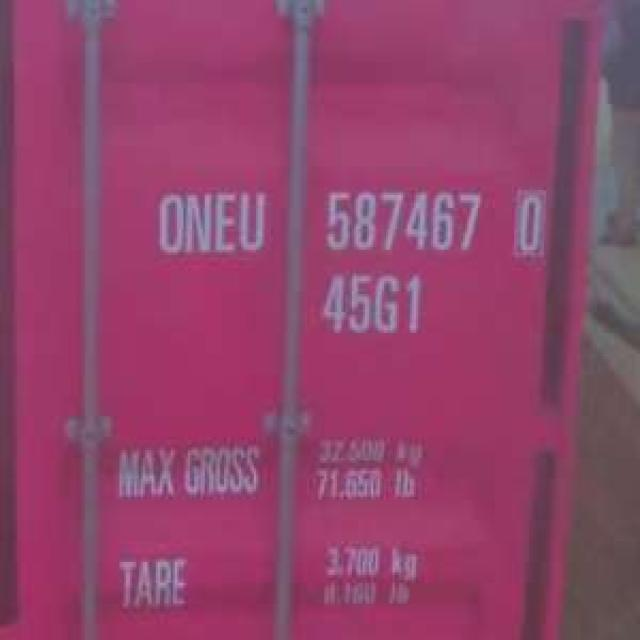dv: (512, 188, 548, 260)
owner: (149, 180, 271, 260)
serial: (318, 182, 484, 258)
size: (314, 268, 426, 336)
